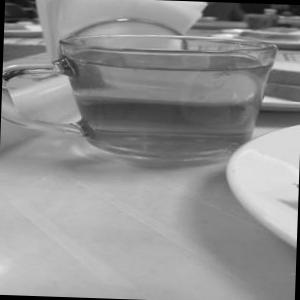tea: (33, 14, 290, 174)
